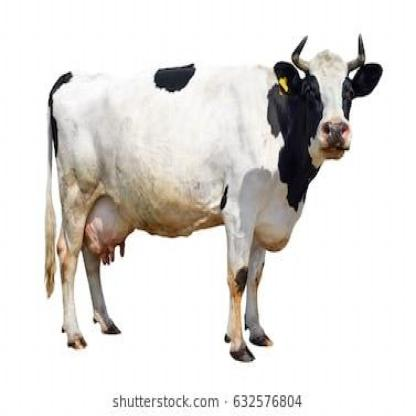cow: (43, 34, 383, 364)
